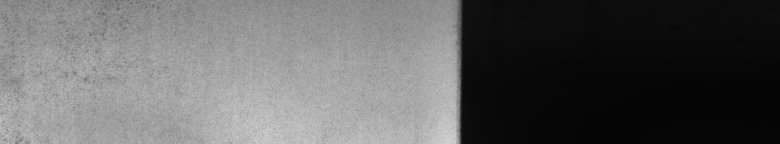ib: (4, 8, 128, 100)
